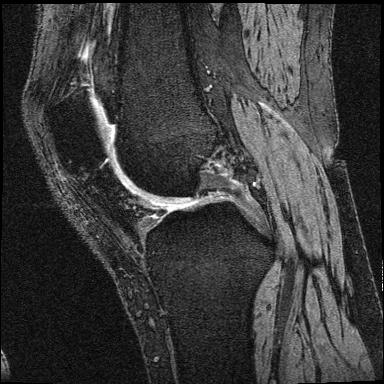SagKneeJointArea: (46, 85, 274, 272)
